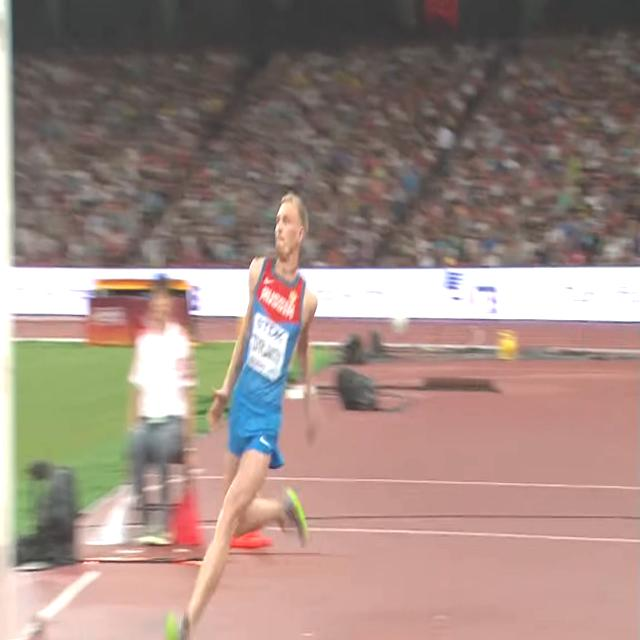run: (166, 192, 318, 640)
